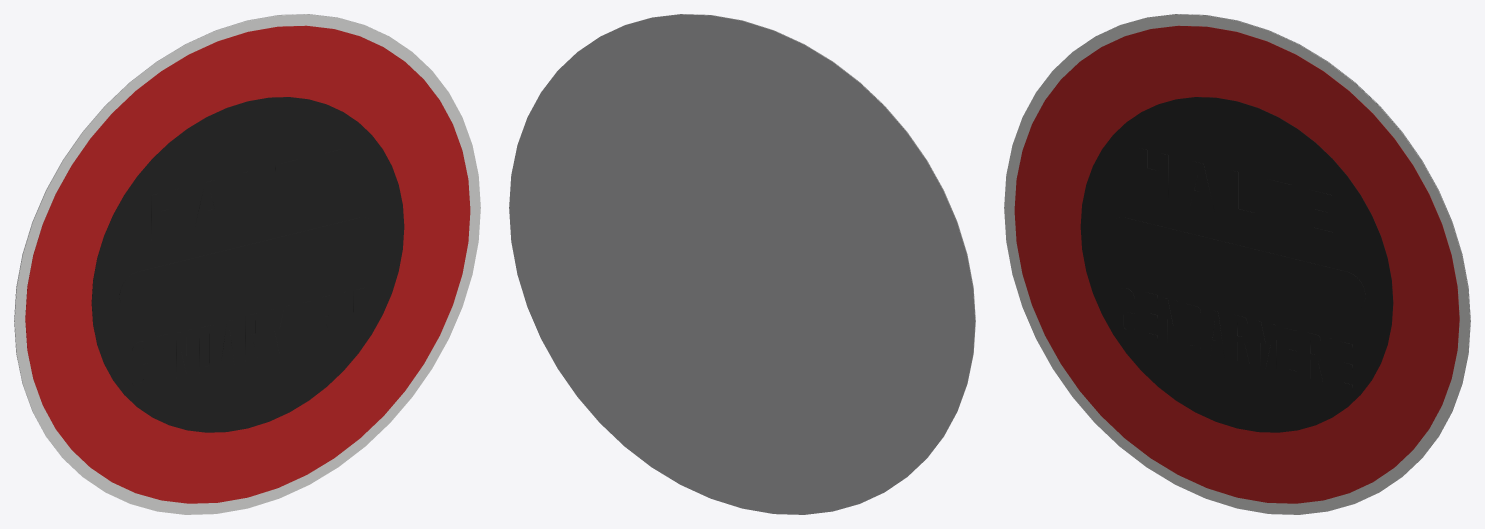
3 views of the same model, side by side, from view 1: azimuth 30°, elevation 25°; view 2: azimuth 150°, elevation 25°; view 3: azimuth 330°, elevation 25° (orthographic).
Parts seen in each view (by area): view 1: B5a_p01, B5a_p02, B5a_p00, B5a_p04, B5a_p07, B5a_p08, B5a_p09, B5a_p13, B5a_dos, B5a_p12, B5a_p16, B5a_p06 (+4 smaller); view 2: B5a_dos, B5a_p00; view 3: B5a_p01, B5a_p02, B5a_p00, B5a_p04, B5a_p07, B5a_p08, B5a_p09, B5a_p13, B5a_dos, B5a_p16, B5a_p06, B5a_p05 (+4 smaller).
Part boxes in pixels (x1,y1,x2,y2): B5a_p01: [25, 25, 470, 503]; B5a_p02: [91, 97, 404, 432]; B5a_p00: [14, 14, 480, 514]; B5a_p04: [119, 217, 376, 312]; B5a_p07: [151, 188, 180, 240]; B5a_p08: [194, 180, 226, 230]; B5a_p09: [319, 148, 346, 200]; B5a_p13: [269, 305, 289, 356]; B5a_dos: [14, 14, 385, 473]; B5a_p12: [176, 329, 191, 378]; B5a_p16: [199, 325, 215, 373]; B5a_p06: [241, 171, 266, 218]; B5a_dos: [509, 14, 975, 514]; B5a_p00: [604, 14, 975, 473]; B5a_p01: [1014, 25, 1459, 503]; B5a_p02: [1080, 97, 1393, 432]; B5a_p00: [1004, 14, 1470, 514]; B5a_p04: [1108, 217, 1365, 312]; B5a_p07: [1139, 148, 1168, 200]; B5a_p08: [1181, 161, 1214, 211]; B5a_p09: [1306, 189, 1333, 240]; B5a_p13: [1255, 320, 1276, 370]; B5a_dos: [1099, 14, 1470, 473]; B5a_p16: [1184, 303, 1200, 351]; B5a_p06: [1229, 170, 1254, 221]; B5a_p05: [1263, 178, 1291, 227].
Size of the model in its own units: 0.85 by 0.8498 by 0.0095.
